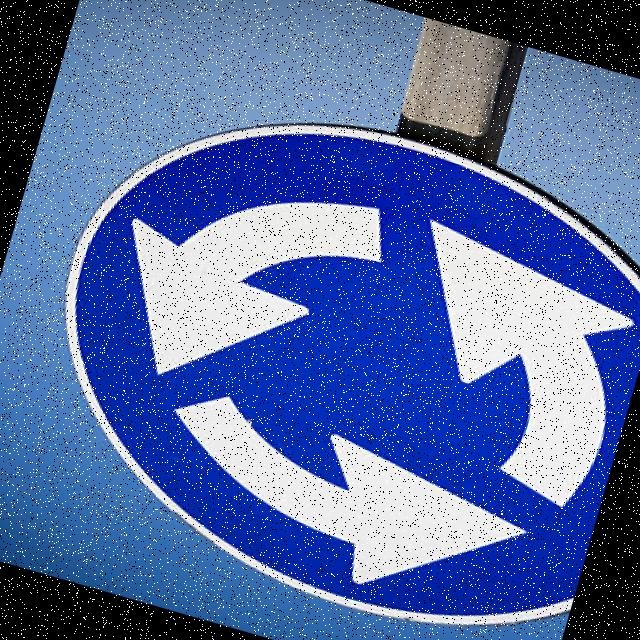round_about: (0, 57, 640, 640)
